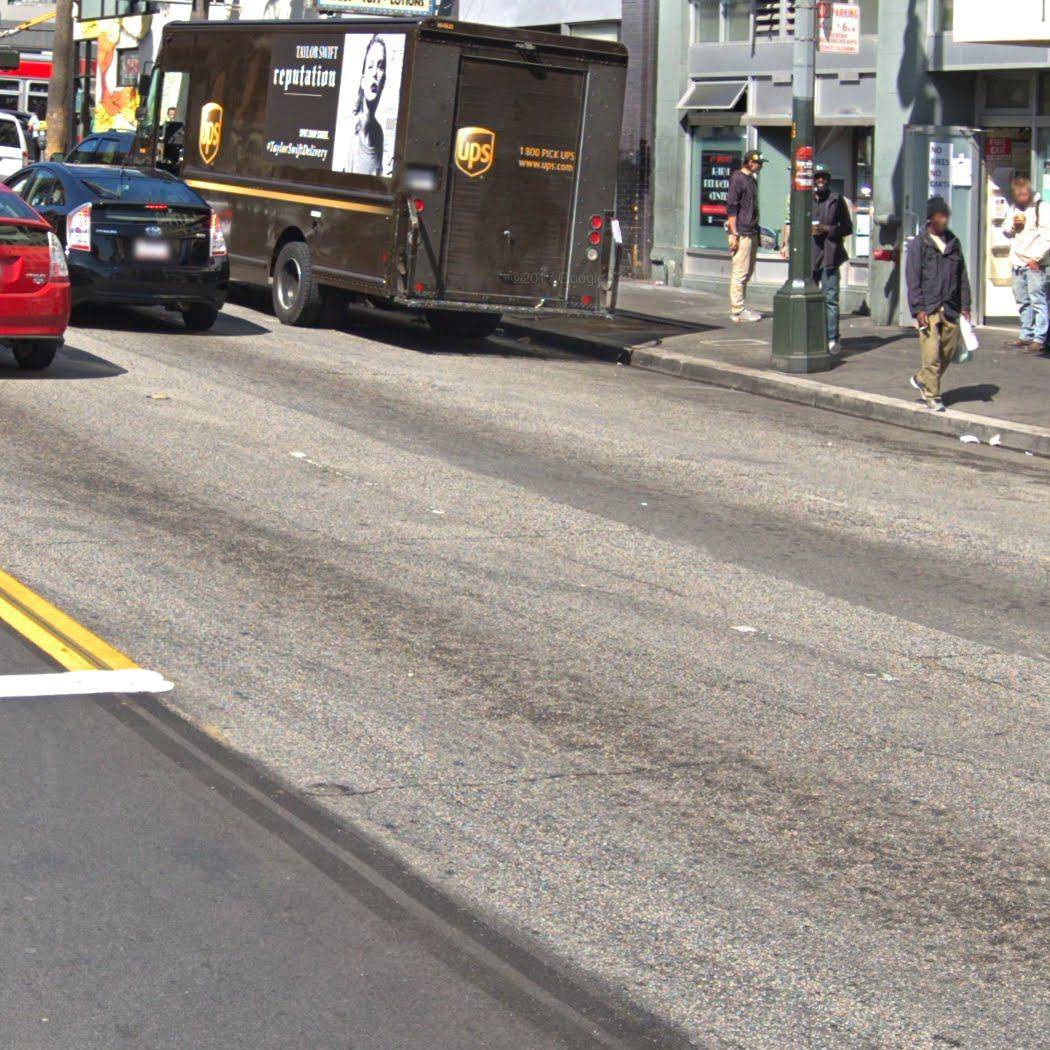No Parking: (813, 1, 861, 55)
